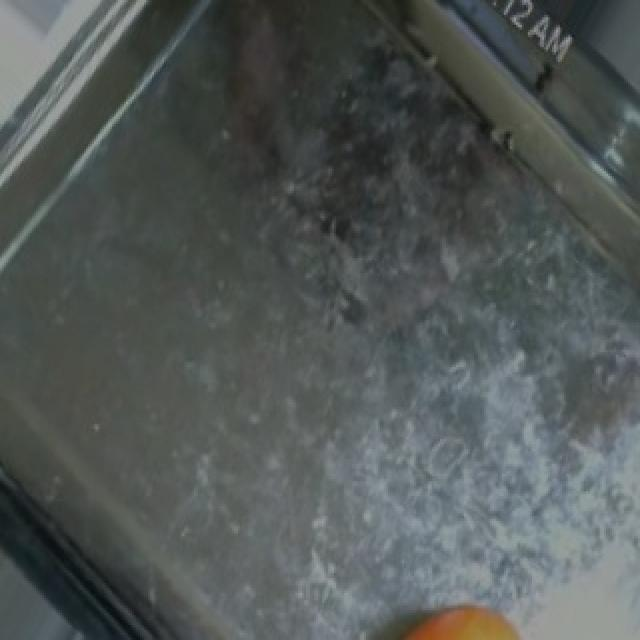Fruit: (362, 590, 562, 640)
